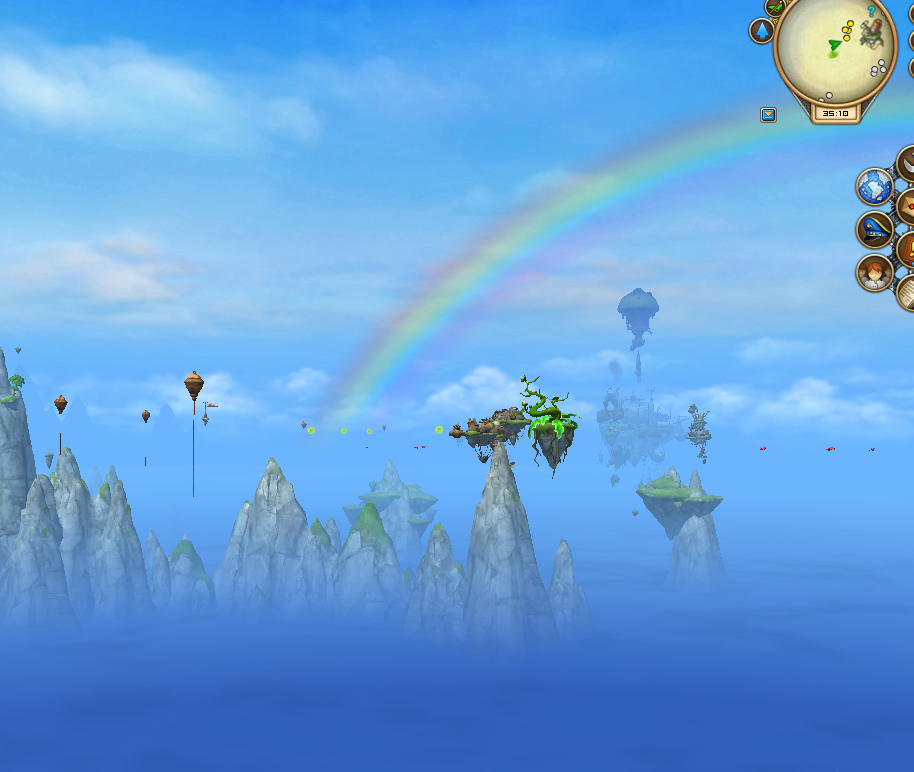dandelion-empty: (517, 371, 583, 459)
fluff: (305, 424, 316, 436), (364, 425, 375, 436), (434, 423, 444, 435), (339, 426, 348, 436)
